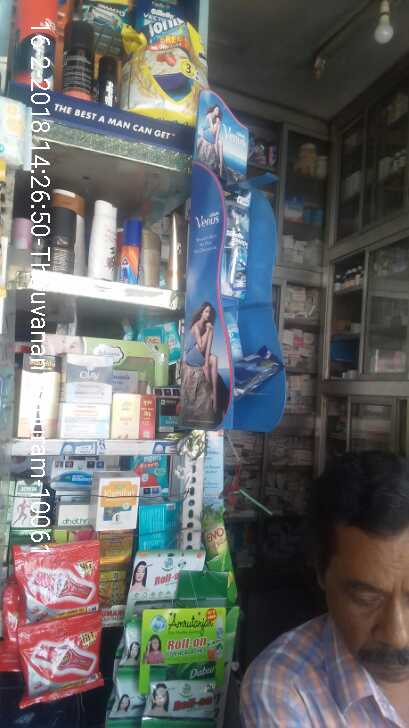beauty: (217, 178, 259, 291), (56, 354, 114, 404)
